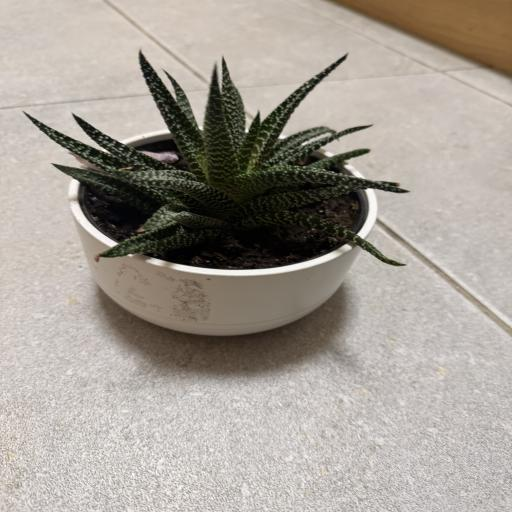Plant Pot: (66, 128, 376, 336)
